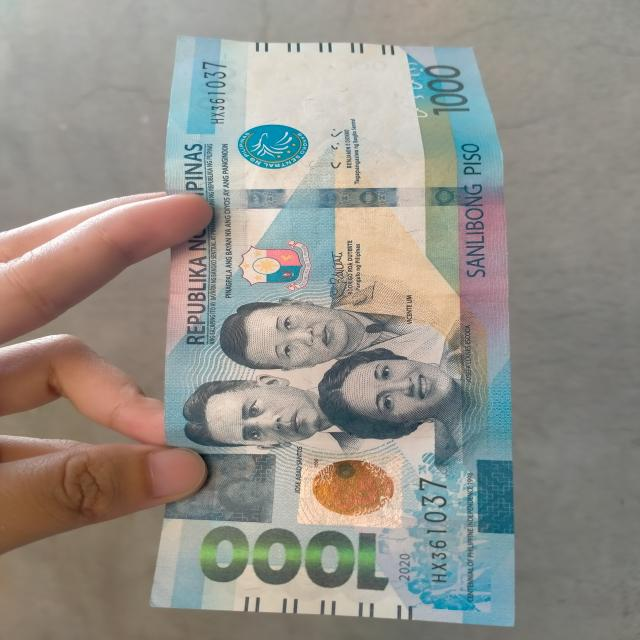concealed_value: (150, 448, 280, 524)
optically_variable_device: (296, 448, 410, 530)
security_thread: (167, 184, 507, 210)
see_through_mark: (388, 57, 431, 121)
serial_number: (402, 465, 466, 596), (196, 54, 236, 136)
